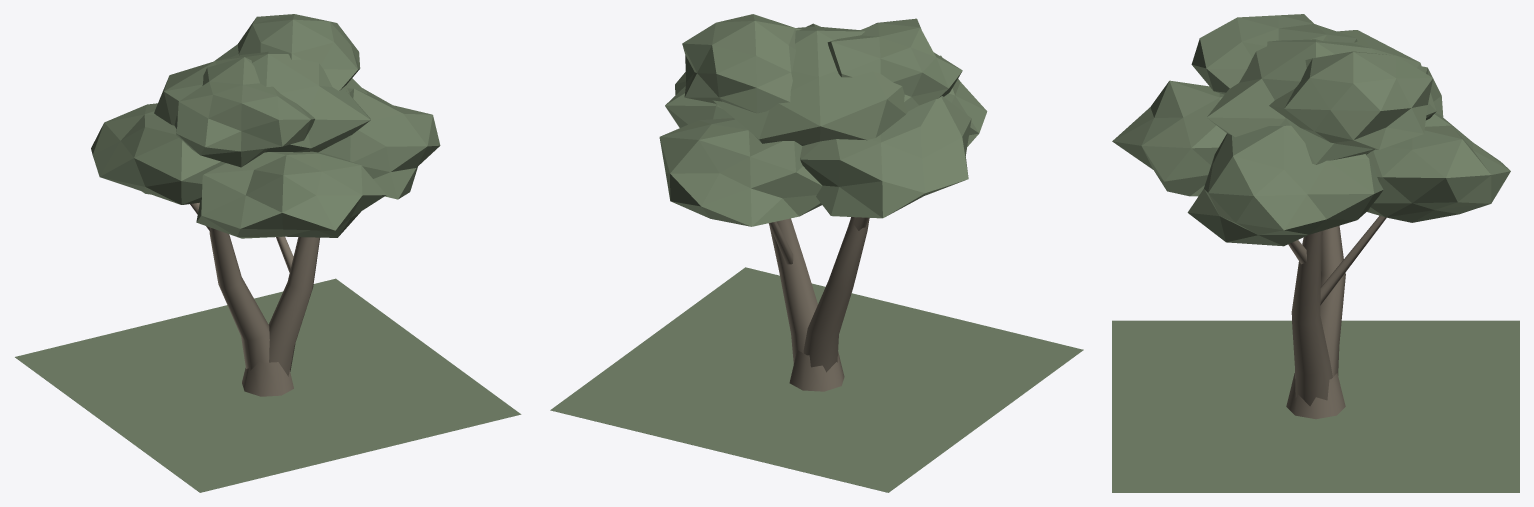
3 renders of one model, left to right at view 1: azimuth 30°, elevation 25°; view 2: azimuth 150°, elevation 25°; view 3: azimuth 270°, elevation 25°, orthographic. The views are drawn at different scales.
Visible parts, largest first — view 1: Footprint, Canopy, Trunk; view 2: Footprint, Canopy, Trunk, Branches; view 3: Footprint, Canopy, Trunk, Branches.
Boxes of the visible parts, x1=… form: Footprint: x1=15, y1=278, x2=521, y2=492; Canopy: x1=91, y1=14, x2=440, y2=238; Trunk: x1=209, y1=227, x2=319, y2=396; Footprint: x1=550, y1=267, x2=1083, y2=492; Canopy: x1=659, y1=14, x2=987, y2=226; Trunk: x1=769, y1=217, x2=869, y2=391; Branches: x1=769, y1=217, x2=868, y2=264; Footprint: x1=1112, y1=320, x2=1519, y2=492; Canopy: x1=1112, y1=14, x2=1510, y2=246; Trunk: x1=1286, y1=225, x2=1345, y2=419; Branches: x1=1288, y1=215, x2=1386, y2=305.
Bounding box in the file's own units: 3.82 × 3.99 × 3.82.
